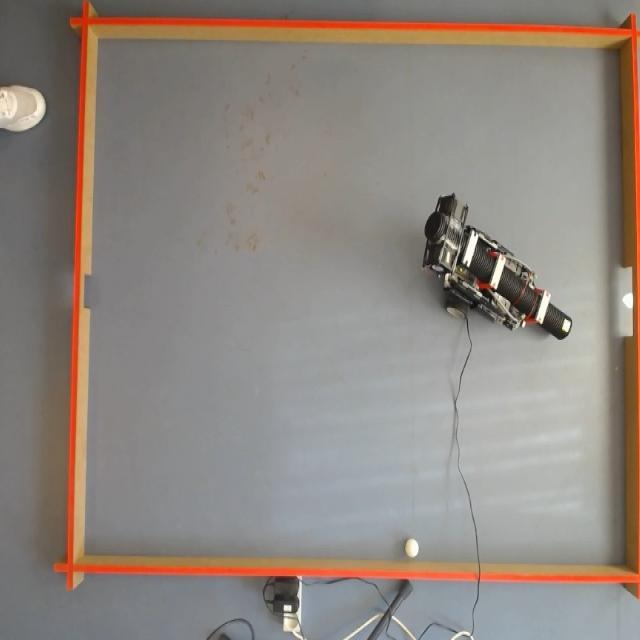robot: (423, 193, 572, 341)
robot-front: (543, 304, 571, 339)
white-golf-balls: (405, 538, 419, 558)
